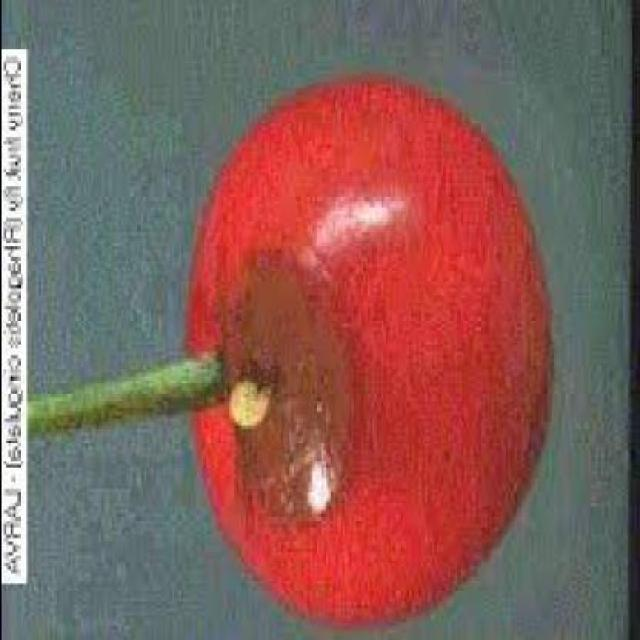BIODEGRADABLE: (185, 77, 552, 629), (28, 358, 226, 441)
